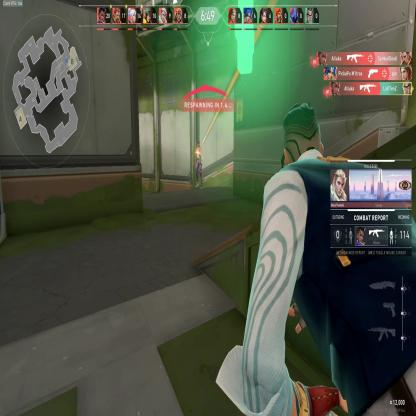enemy: (194, 139, 204, 189)
